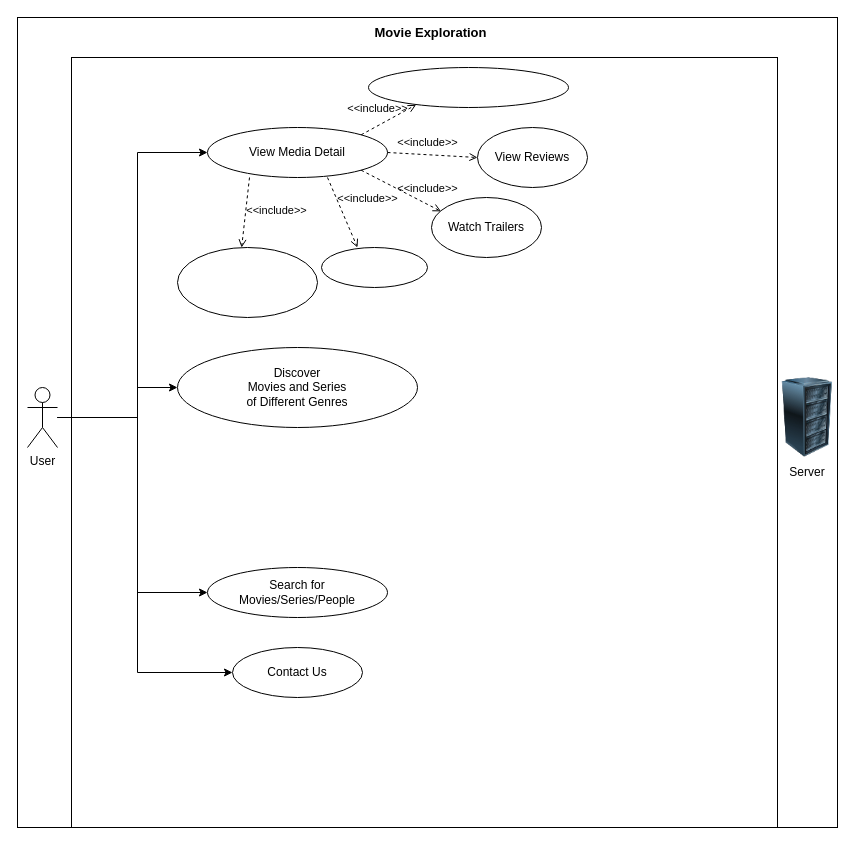
Image size: 865x845. Some labels were removed from this diagram. Here are the shapes that lost their labels. From the top down, the centre of each, then its label:
the point at 468,87: Get Similar Media Recommendations
the point at 247,282: Get Cast Details,Posters & Backdrops
the point at 374,267: Read Synopsis
